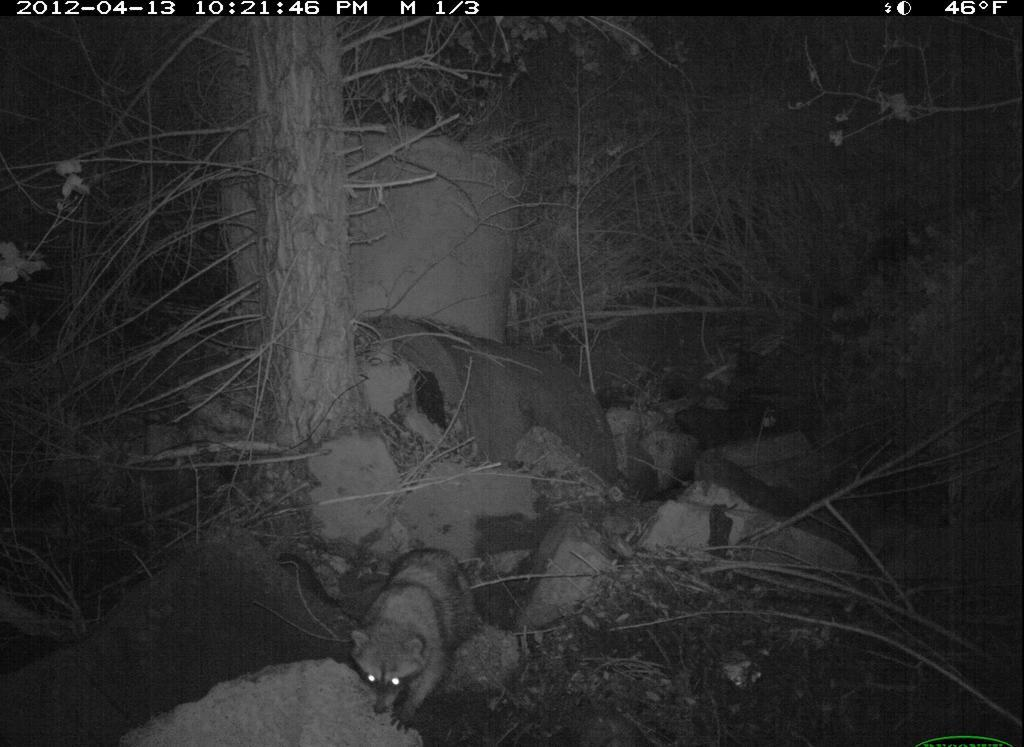raccoon: (342, 539, 496, 730)
